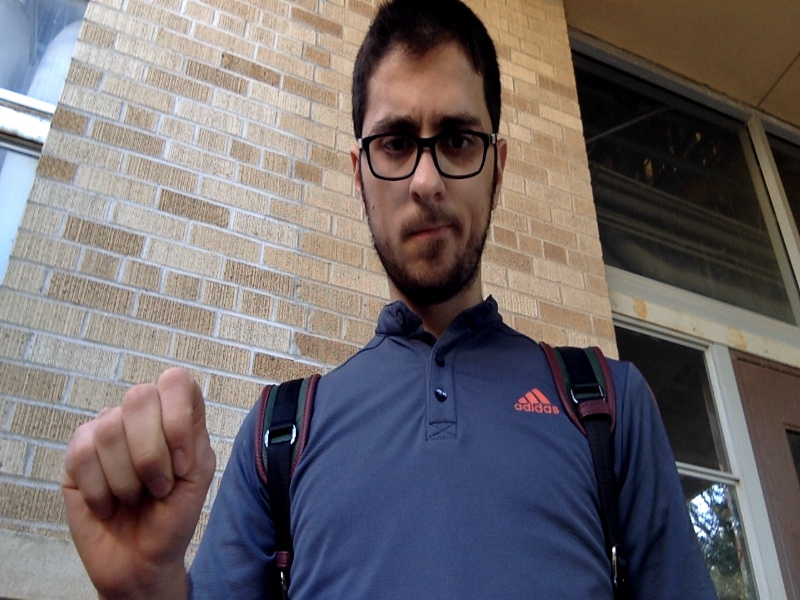0-hand: (65, 369, 216, 594)
